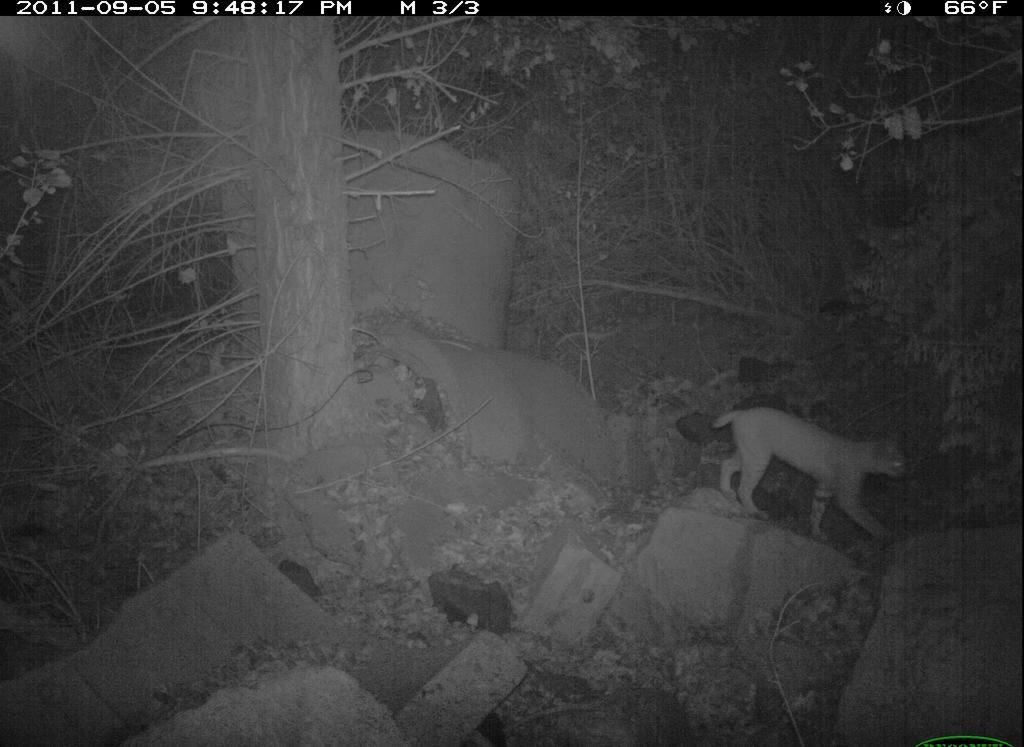bobcat: (703, 390, 923, 550)
